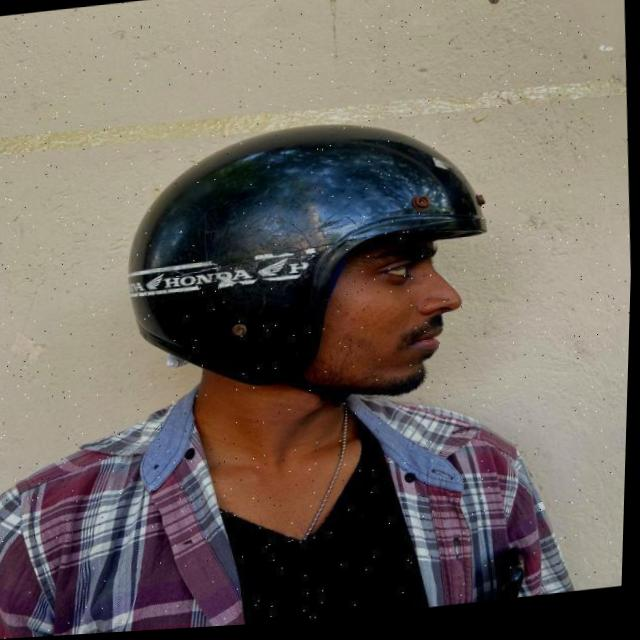helmet: (119, 109, 505, 441)
